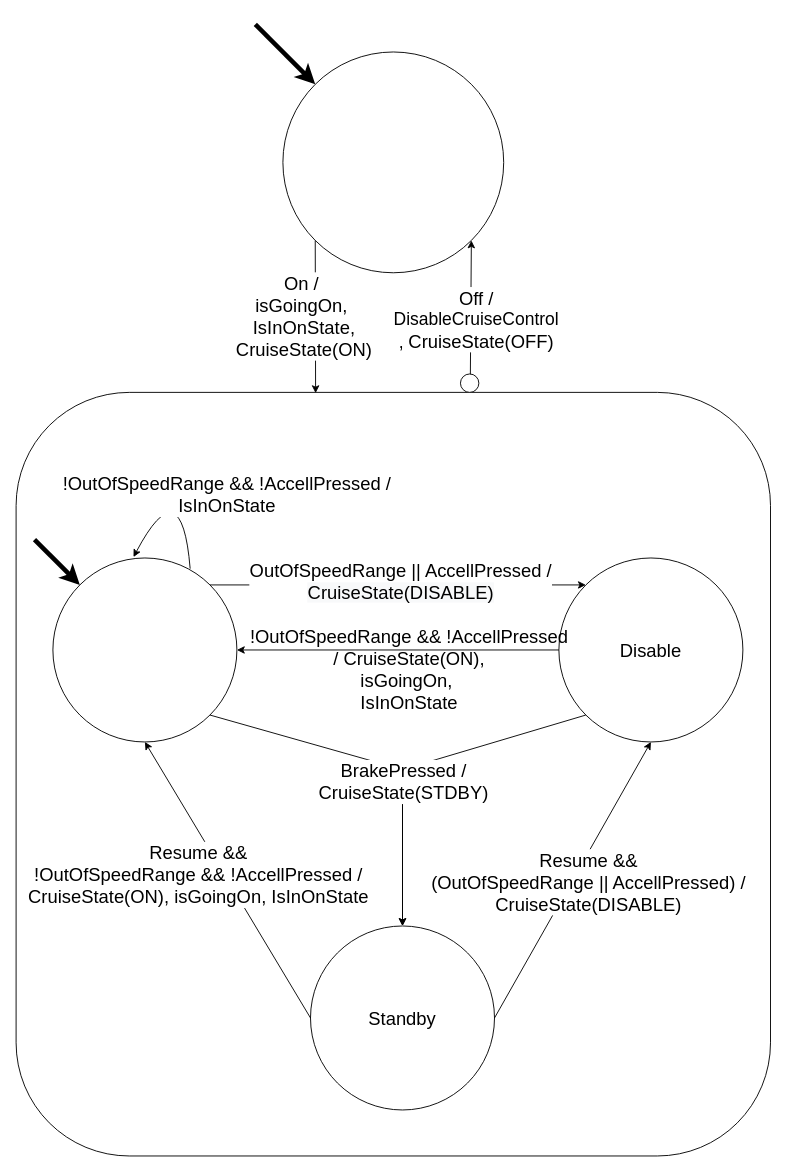
Some shapes in this 787 by 1172 pixel diagram are drawn without their labels. The centre of each missing label's shape, as x and y in pixels:
"OFF" goes at point (393, 162).
"On" goes at point (144, 649).
